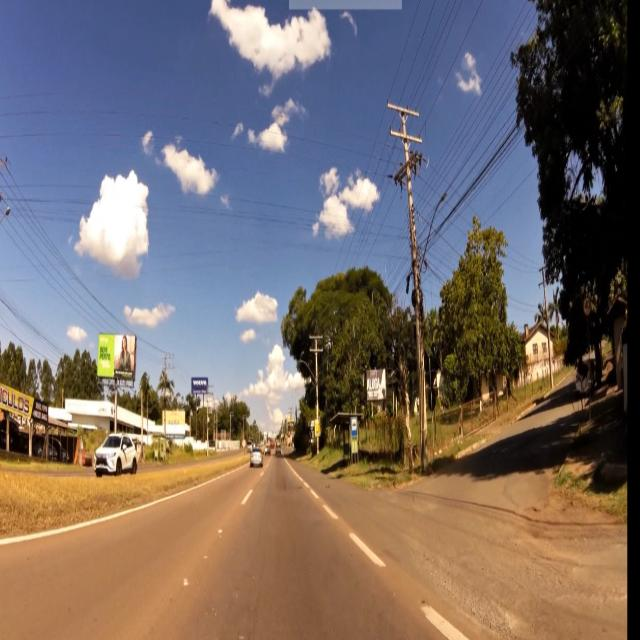S-14: (351, 416, 358, 436)
